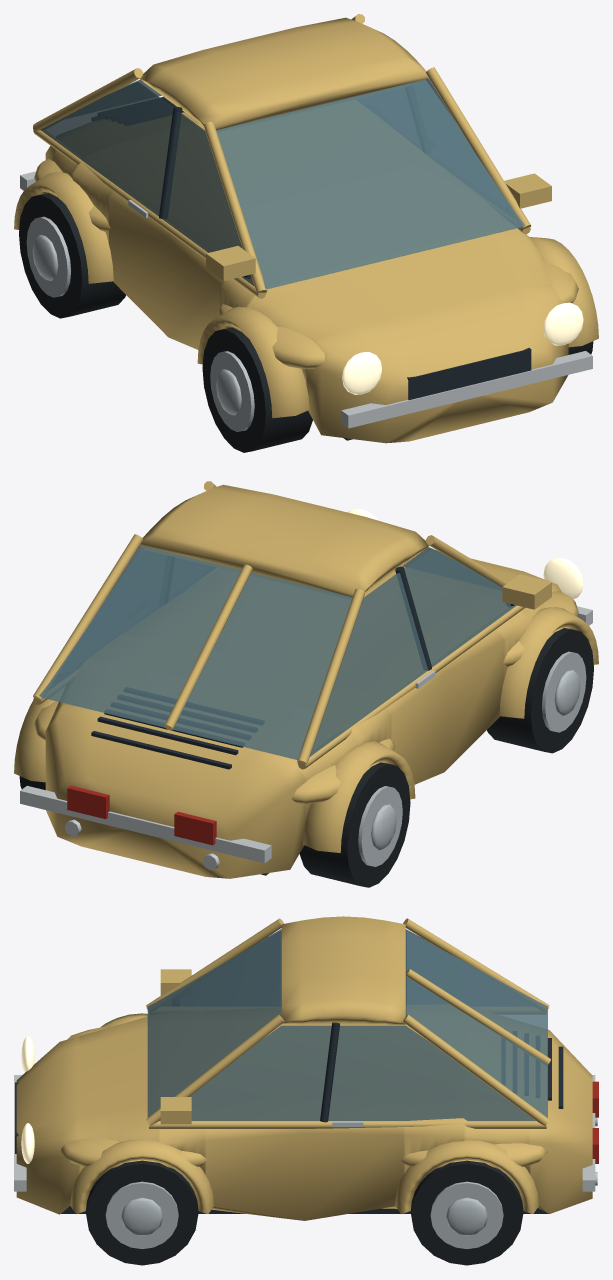
The model's file is kafer.glb.
3 views of the same model, one above another, from view 1: azimuth 30°, elevation 25°; view 2: azimuth 150°, elevation 25°; view 3: azimuth 270°, elevation 25° (orthographic). The views are drawn at different scales.
Parts seen in each view (by area): view 1: exterior-paint, windows, tire-front-left, tire-rear-left, chrome, black-trim, rim-rear-left, rim-front-left, headlights; view 2: exterior-paint, windows, tire-rear-left, tire-front-left, chrome, black-trim, rim-rear-left, rim-front-left, taillights, headlights; view 3: exterior-paint, windows, tire-front-right, tire-rear-right, rim-front-right, rim-rear-right, black-trim, chrome, headlights, taillights.
Part boxes in pixels (bbox=[...]): exterior-paint: bbox=[14, 14, 598, 443]; windows: bbox=[40, 78, 524, 289]; tire-front-left: bbox=[202, 327, 312, 452]; tire-rear-left: bbox=[19, 193, 125, 318]; chrome: bbox=[20, 171, 592, 428]; black-trim: bbox=[104, 88, 531, 440]; rim-rear-left: bbox=[26, 216, 70, 297]; rim-front-left: bbox=[210, 351, 254, 431]; headlights: bbox=[342, 302, 583, 394]; exterior-paint: bbox=[14, 481, 598, 878]; windows: bbox=[39, 545, 516, 759]; tire-rear-left: bbox=[299, 762, 410, 887]; tire-front-left: bbox=[487, 628, 593, 753]; chrome: bbox=[20, 606, 592, 870]; black-trim: bbox=[91, 566, 514, 875]; rim-rear-left: bbox=[358, 786, 402, 866]; rim-front-left: bbox=[542, 651, 586, 732]; taillights: bbox=[67, 785, 216, 845]; headlights: bbox=[347, 508, 583, 599]; exterior-paint: bbox=[16, 916, 592, 1220]; windows: bbox=[147, 929, 547, 1120]; tire-front-right: bbox=[86, 1160, 198, 1265]; tire-rear-right: bbox=[411, 1160, 523, 1265]; rim-front-right: bbox=[105, 1181, 178, 1249]; rim-rear-right: bbox=[430, 1181, 503, 1248]; black-trim: bbox=[15, 1022, 563, 1213]; chrome: bbox=[14, 1075, 597, 1191]; headlights: bbox=[21, 1036, 34, 1163]; taillights: bbox=[592, 1081, 598, 1163].
Size of the model in its own units: 1.85 by 1.36 by 3.03.
